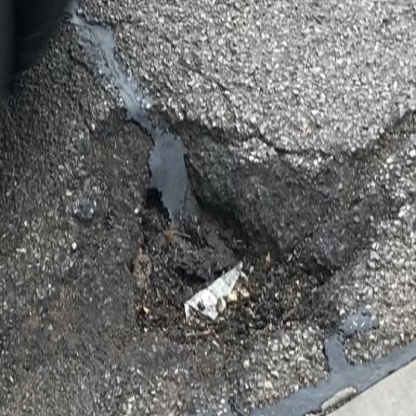pothole: (55, 85, 330, 368)
